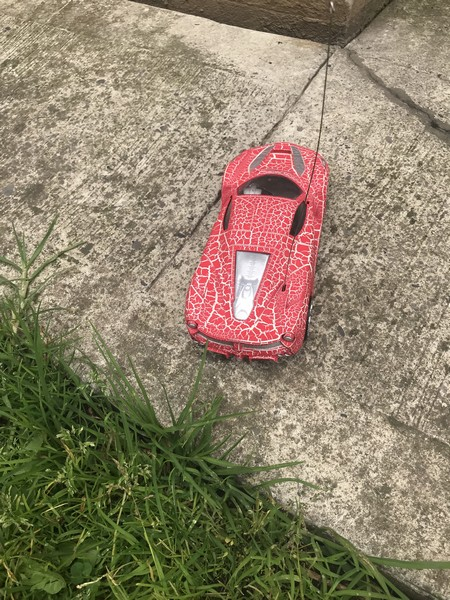RC: (193, 144, 329, 355)
